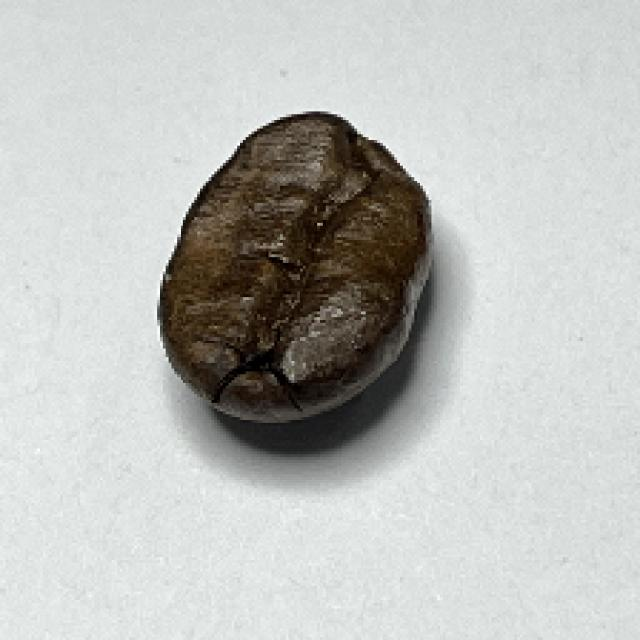bean: (151, 108, 436, 425)
